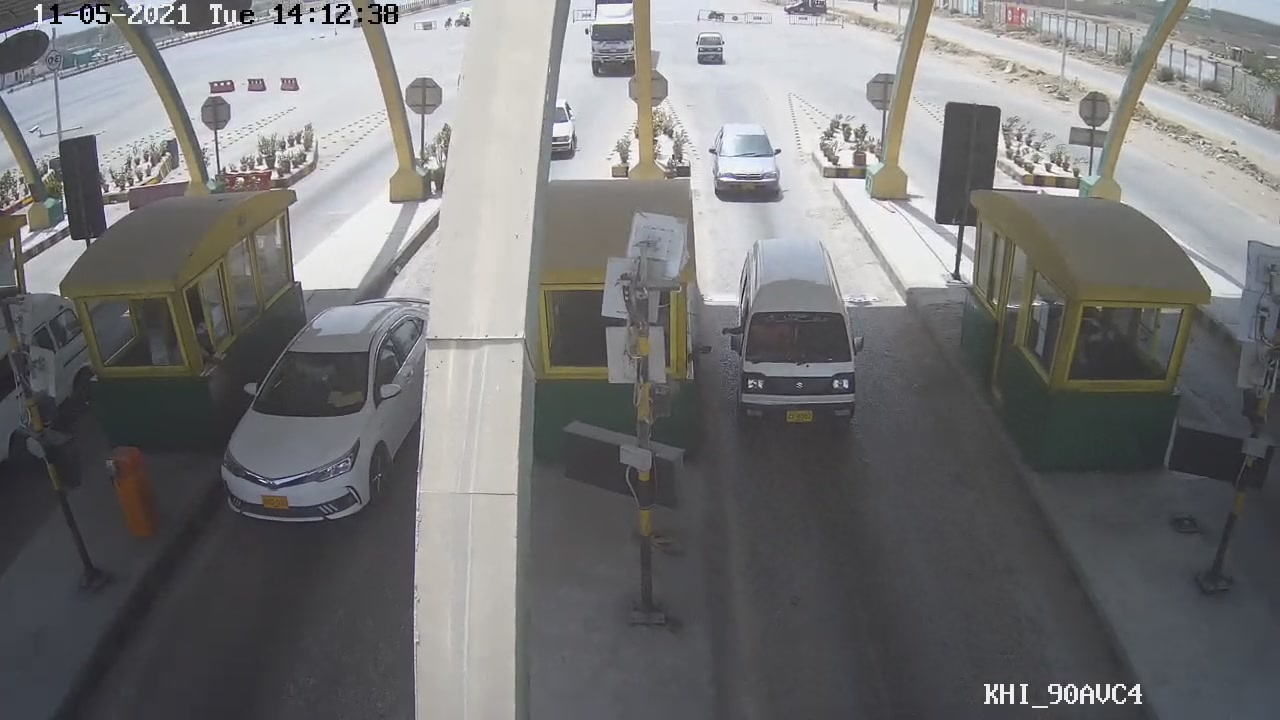F1: (728, 231, 873, 434)
